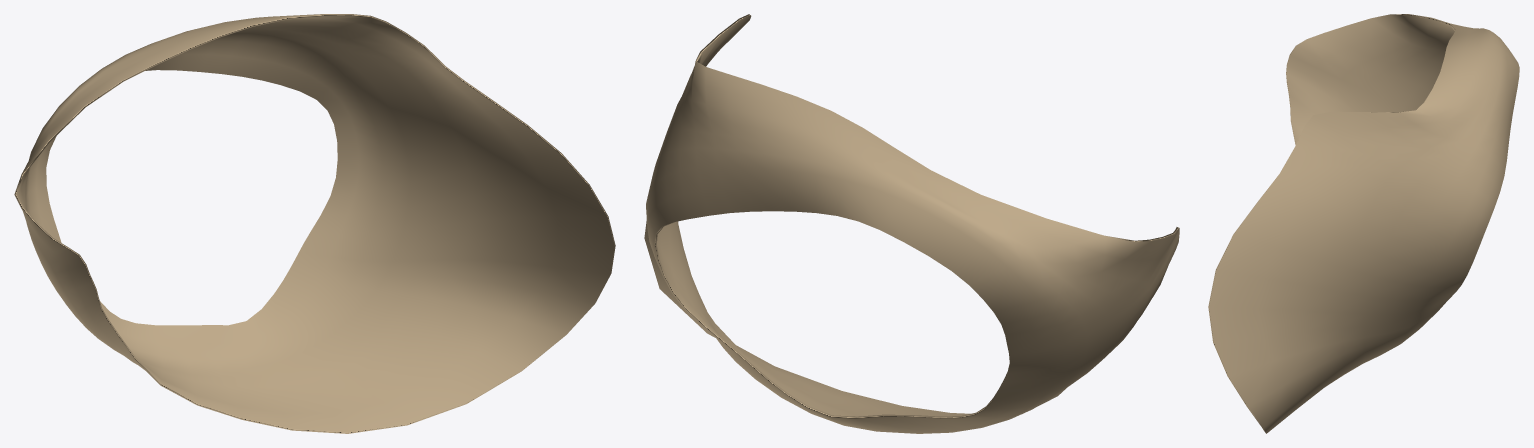
The picture shows the model from 3 angles, left to right: view 1: azimuth 30°, elevation 25°; view 2: azimuth 150°, elevation 25°; view 3: azimuth 270°, elevation 25°; orthographic projection. The views are drawn at different scales.
Parts seen in each view (by area): view 1: 左侧颞下颌关节囊; view 2: 左侧颞下颌关节囊; view 3: 左侧颞下颌关节囊.
Part boxes in pixels (left/top/right/bottom): 左侧颞下颌关节囊: left=14, top=14, right=615, bottom=433; 左侧颞下颌关节囊: left=644, top=14, right=1179, bottom=433; 左侧颞下颌关节囊: left=1208, top=14, right=1519, bottom=433.
Size of the model in its own units: 0.0337 by 0.0216 by 0.019.
